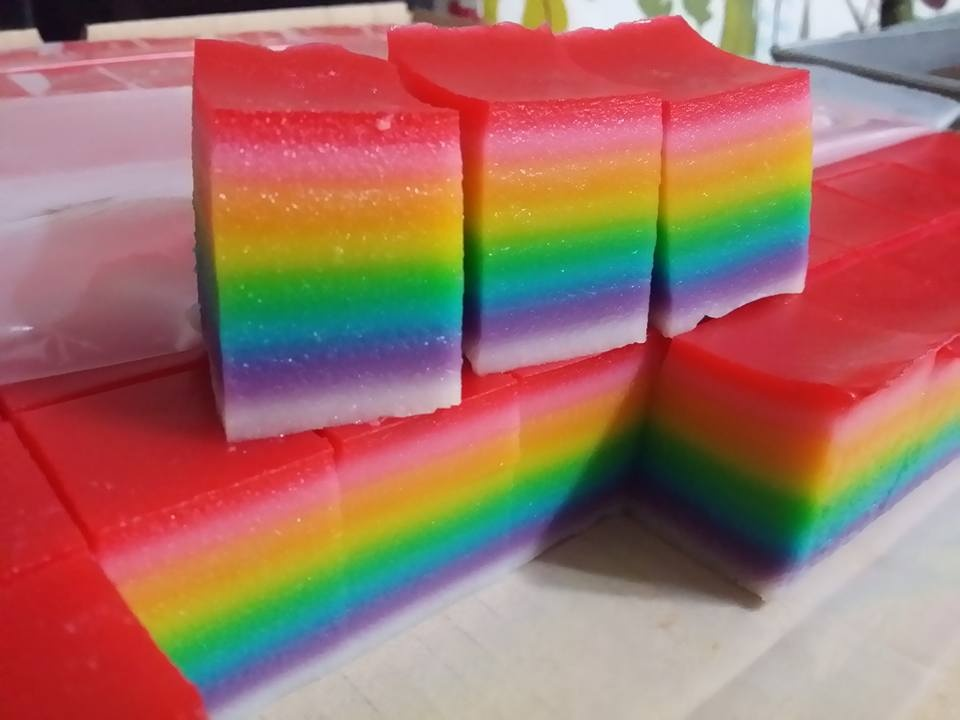kue_lapis_pelangi: (62, 340, 821, 709), (191, 37, 461, 446), (463, 86, 662, 379), (645, 67, 811, 337)
